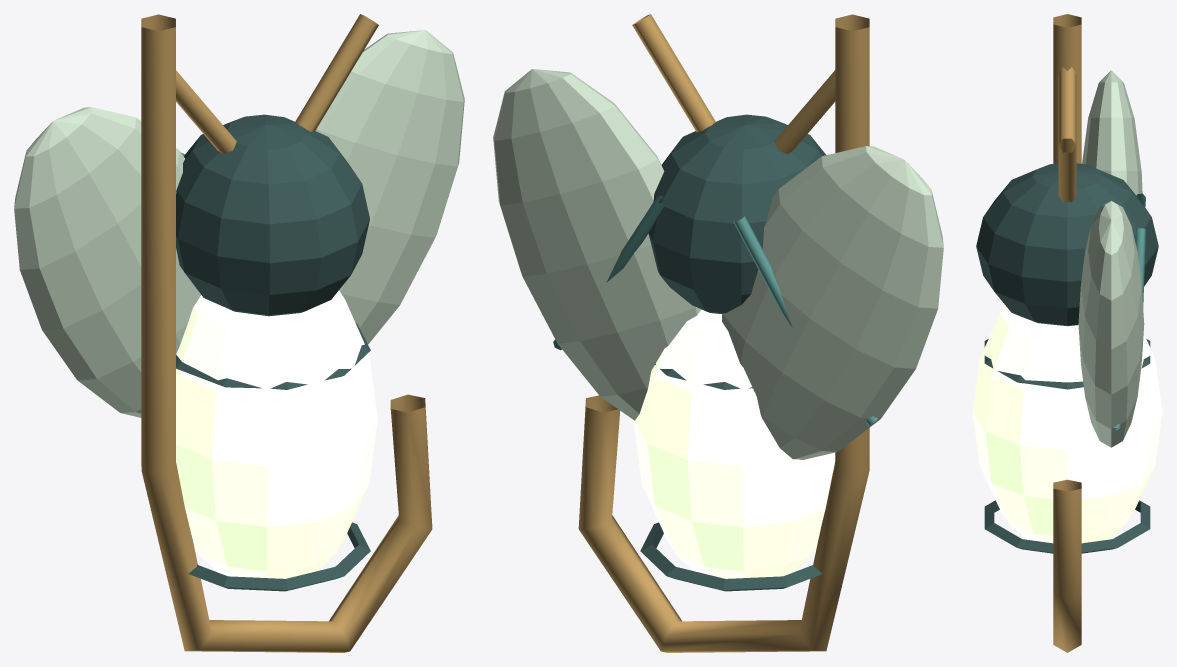
File: bait_glow.glb
3 views of the same model, side by side, from view 1: azimuth 30°, elevation 25°; view 2: azimuth 150°, elevation 25°; view 3: azimuth 270°, elevation 25° (orthographic). The views are drawn at different scales.
Visible parts, largest first — view 1: Glow_abdomen, Hook.002, Wing, Thorax, Wing.001, Antenna.001, Abdomen_band.002, Antenna, Abdomen_band; view 2: Wing, Wing.001, Glow_abdomen, Hook.002, Thorax, Antenna.001, Abdomen_band.002, Antenna, Wing_vein, Wing_vein.001; view 3: Glow_abdomen, Thorax, Wing.001, Hook.002, Wing, Abdomen_band.002, Antenna, Antenna.001, Abdomen_band, Wing_vein.001.
Boxes of the visible parts, box(x1,y1,x2,y2) form: Glow_abdomen: box(176, 290, 377, 592); Hook.002: box(141, 14, 432, 652); Wing: box(14, 107, 200, 417); Thorax: box(176, 114, 369, 316); Wing.001: box(315, 30, 464, 344); Antenna.001: box(295, 14, 378, 131); Abdomen_band.002: box(188, 522, 370, 591); Antenna: box(176, 70, 236, 154); Abdomen_band: box(176, 323, 370, 389); Wing: box(722, 146, 943, 459); Wing.001: box(493, 69, 701, 420); Glow_abdomen: box(633, 309, 835, 592); Hook.002: box(578, 14, 869, 652); Thorax: box(648, 114, 826, 313); Antenna.001: box(632, 14, 715, 131); Abdomen_band.002: box(640, 522, 822, 591); Antenna: box(774, 70, 835, 154); Wing_vein: box(733, 216, 877, 425); Wing_vein.001: box(553, 195, 665, 350); Glow_abdomen: box(972, 305, 1162, 543); Thorax: box(976, 163, 1158, 326); Wing.001: box(1078, 200, 1144, 447); Hook.002: box(1053, 14, 1081, 652); Wing: box(1082, 70, 1142, 195); Abdomen_band.002: box(984, 500, 1150, 553); Antenna: box(1058, 67, 1076, 144); Antenna.001: box(1058, 138, 1076, 201); Abdomen_band: box(984, 339, 1150, 389); Wing_vein.001: box(1114, 228, 1145, 430).
Bounding box in the file's own units: 0.1175 × 0.1683 × 0.052.
